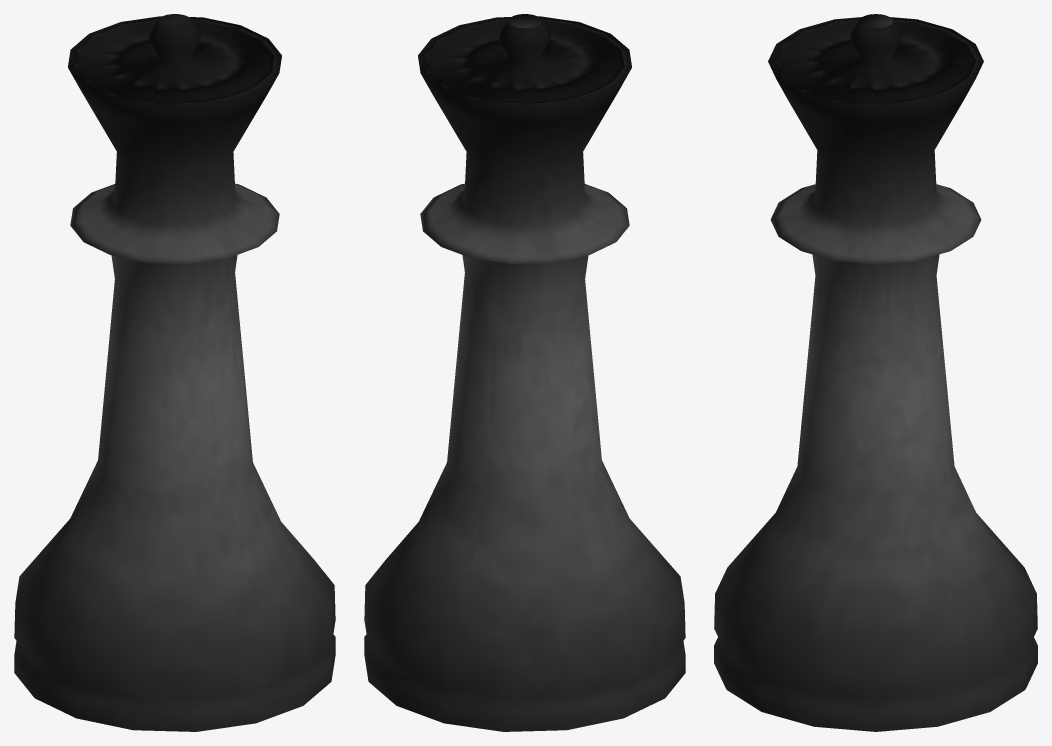
File: king.glb
3 renders of one model, left to right at view 1: azimuth 30°, elevation 25°; view 2: azimuth 150°, elevation 25°; view 3: azimuth 270°, elevation 25°, orthographic.
Parts seen in each view (by area): view 1: Cylinder.001; view 2: Cylinder.001; view 3: Cylinder.001.
Part boxes in pixels (<box>): Cylinder.001: <box>14,14,335,731</box>; Cylinder.001: <box>364,14,685,731</box>; Cylinder.001: <box>714,14,1037,731</box>.
Size of the model in its own units: 7.99 by 17.49 by 7.99.
1 material, 1 textured.
